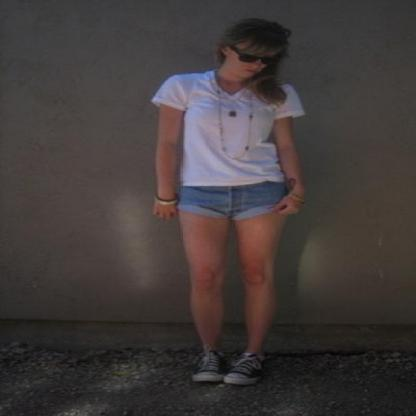shirt: (152, 71, 304, 185)
shoe: (192, 350, 272, 385)
shorts: (178, 180, 289, 219)
